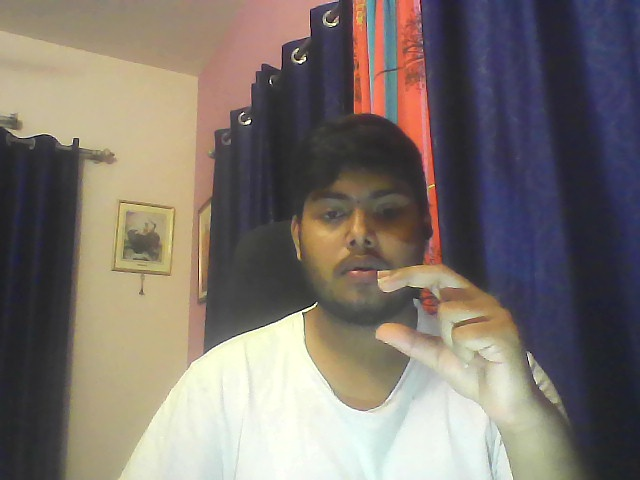No: (365, 256, 563, 412)
